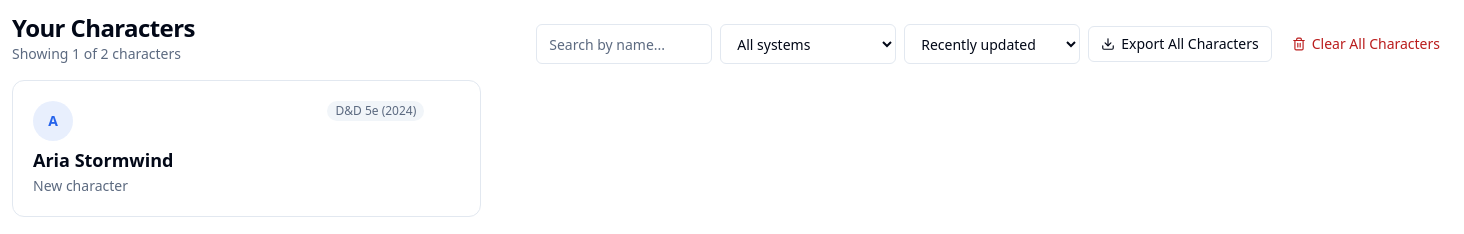
CharacterListView › searches on top of the App-owned system filter
Type "borin" into the search field titled "Search characters".
click(624, 44); type("borin")  # box [536,24,712,64]
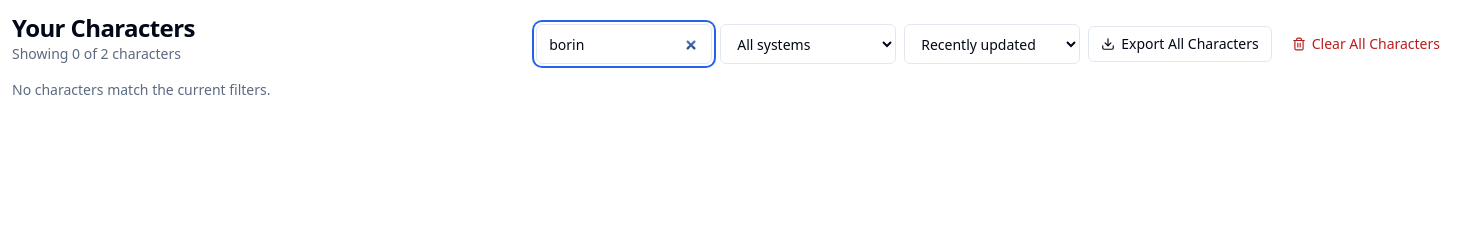
Result: the text "No characters match the current filters." is shown at [12,80,270,99]
